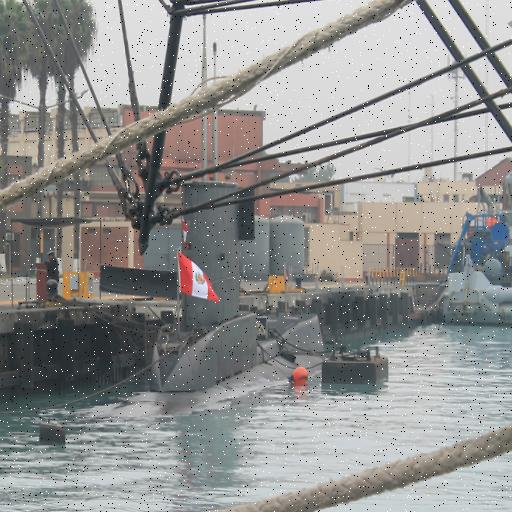submarine: (55, 157, 355, 437)
